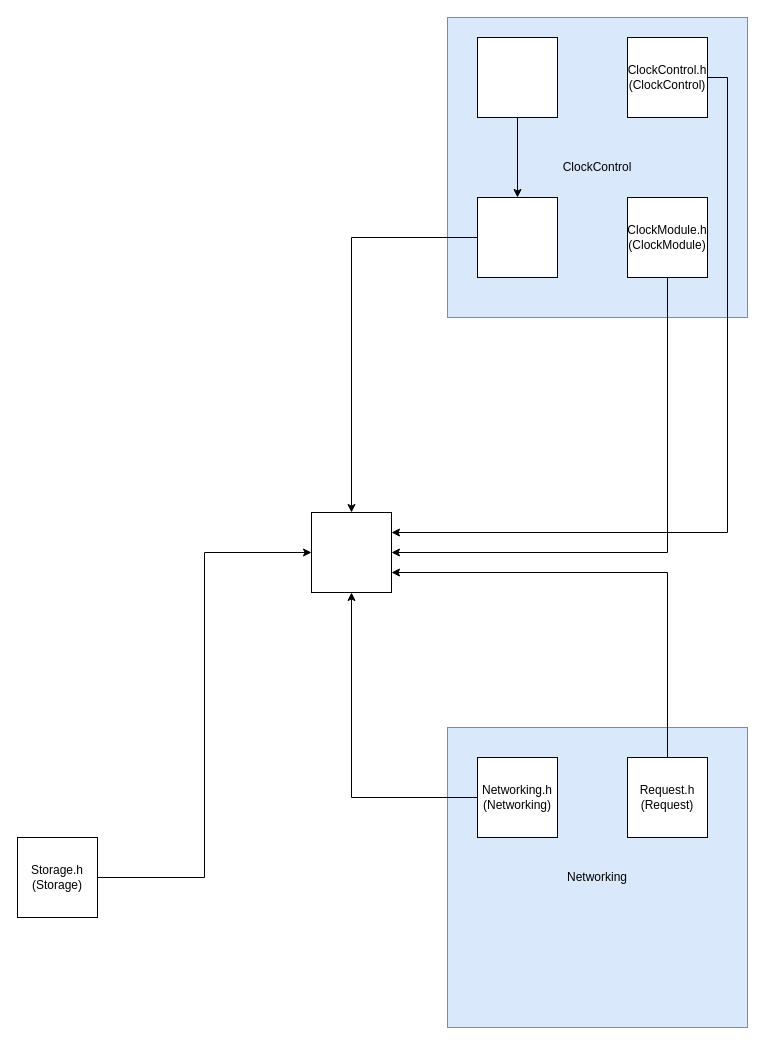
This 765x1045 diagram has some shape labels left out. Each missing label, with the centre of its shape:
Control.h (Control): pixel 351 552
Data.h (Data): pixel 517 77
Rendere.h (Rendering): pixel 517 237
